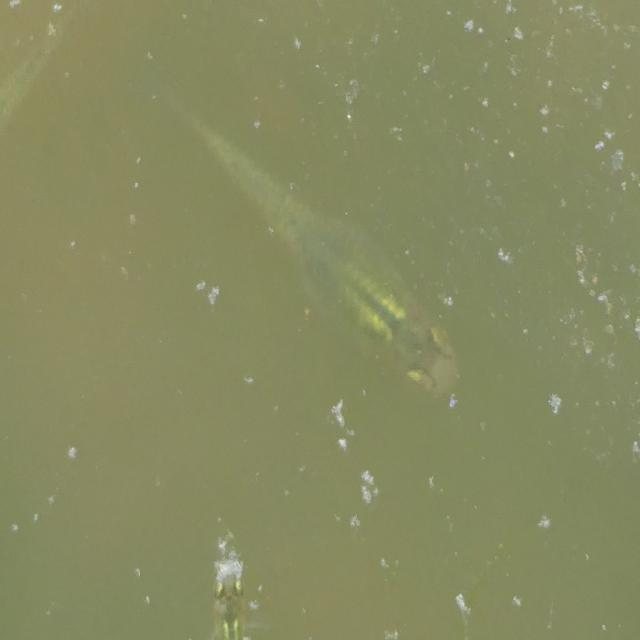Sivrisinek Baligi: (144, 73, 468, 401), (205, 553, 252, 640)
